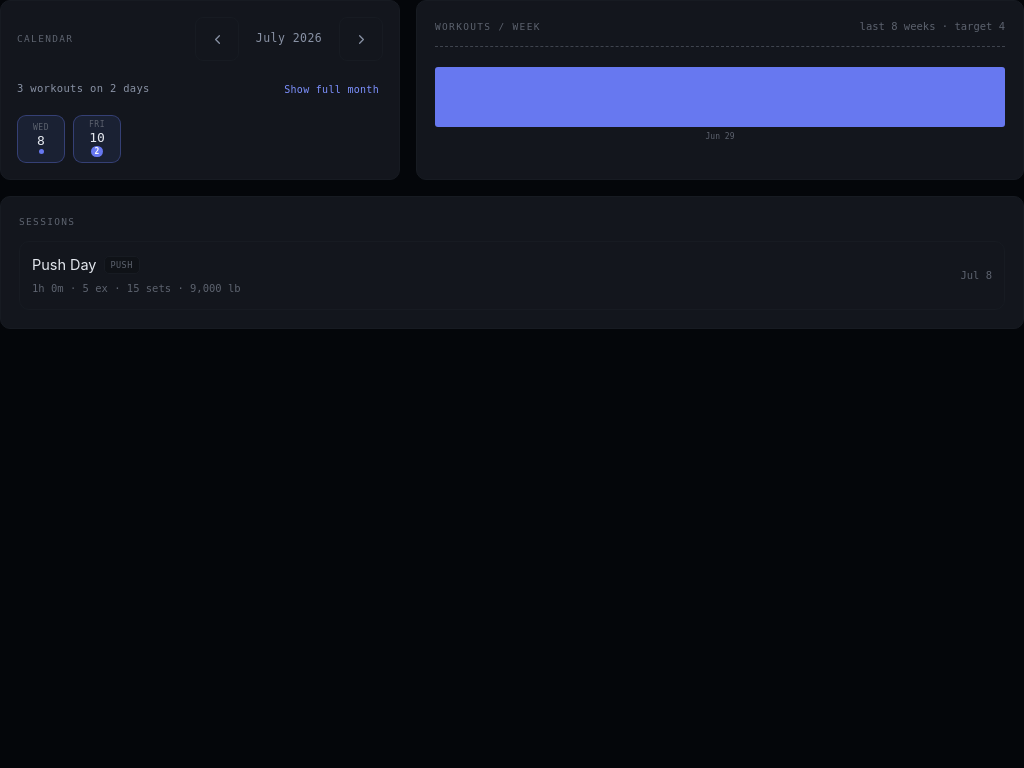
Test: HistoryTab › opens the session detail when a single-workout day is tapped
The width and height of the screenshot is (1024, 768).
# The 8th has one workout → its cell is a button with an aria-label mentioning 1 workout.
Click the button with aria-label "July 8: 1 workout". click: [41, 139]
box: [17, 115, 65, 163]
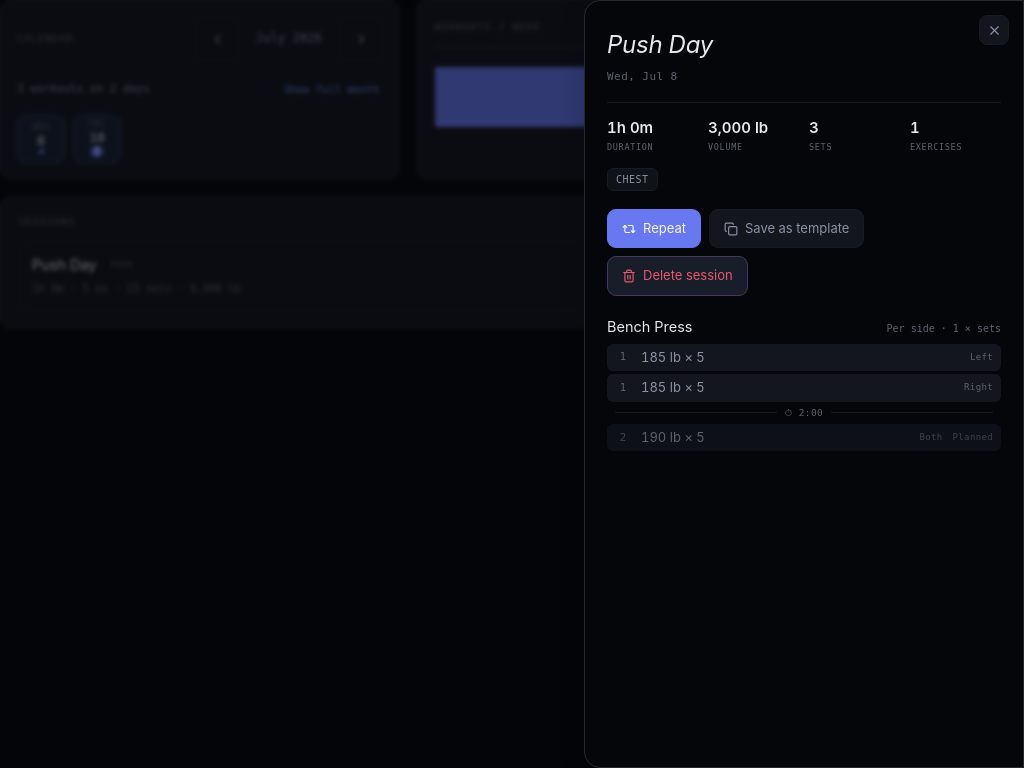
Result: the text "Bench Press" is shown at [607, 316, 692, 338]
